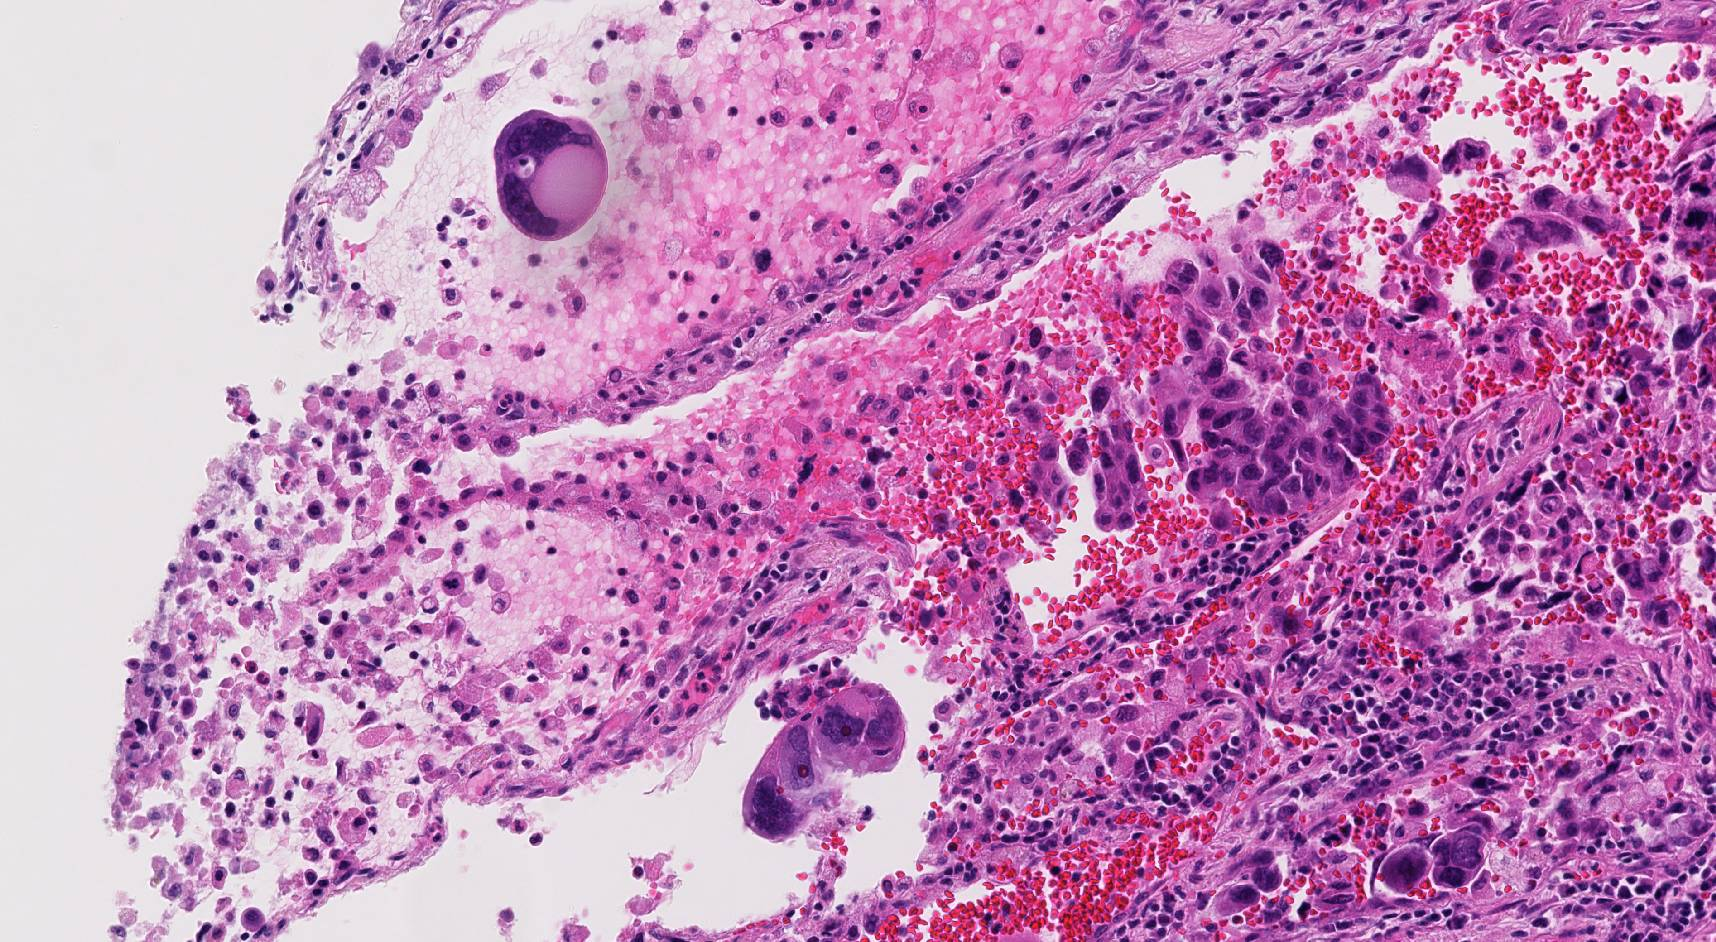stas: (1147, 243, 1395, 522), (740, 683, 908, 845), (1469, 177, 1633, 294), (493, 107, 609, 243), (1064, 381, 1153, 534), (1384, 136, 1497, 203)
